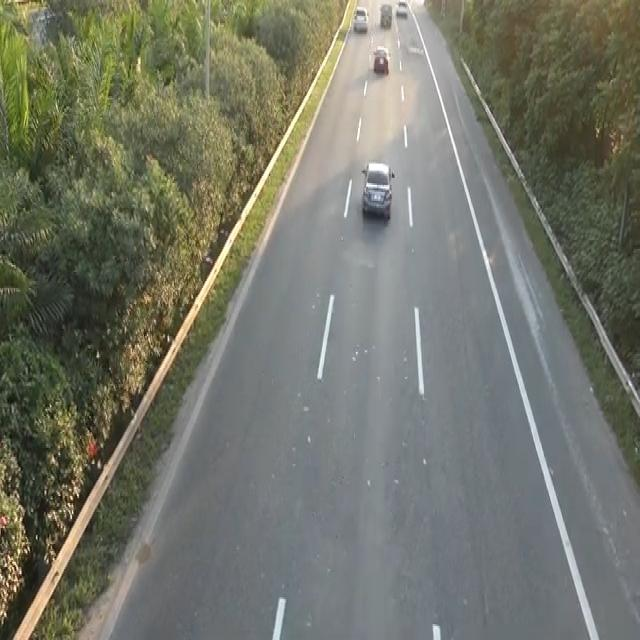bus: (359, 156, 397, 228), (371, 44, 390, 74)
